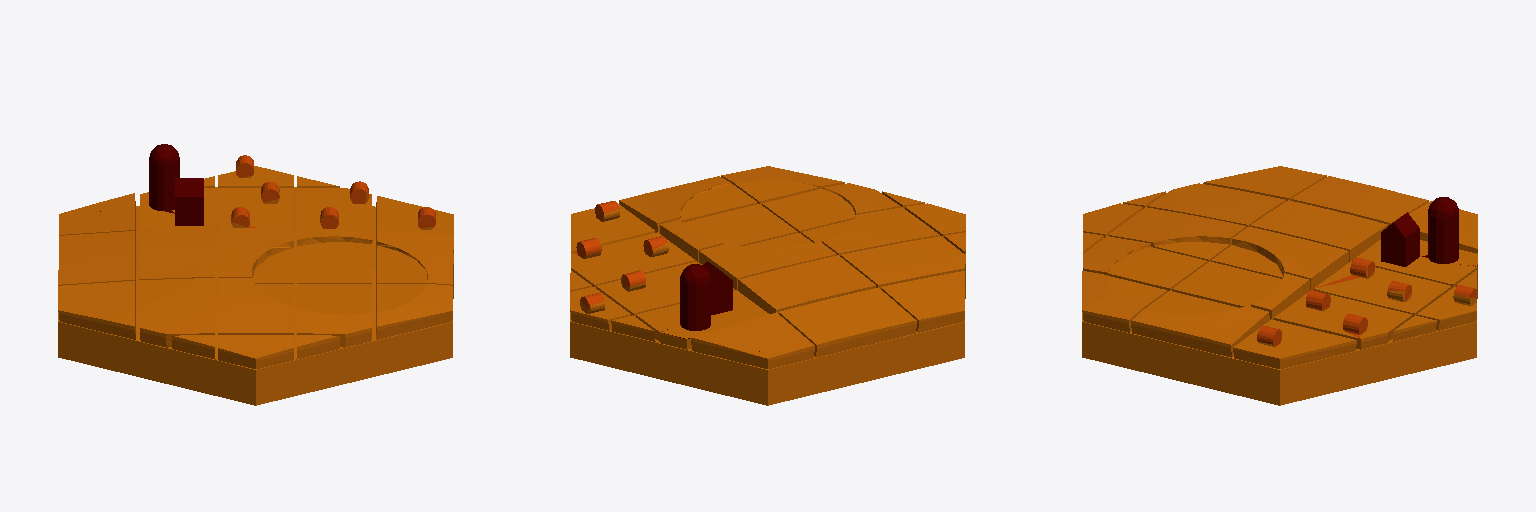
File: wheat.obj
3 renders of one model, left to right at view 1: azimuth 30°, elevation 25°; view 2: azimuth 150°, elevation 25°; view 3: azimuth 270°, elevation 25°, orthographic.
Visible parts, largest first — view 1: wheat_v1; view 2: wheat_v1; view 3: wheat_v1.
Boxes of the visible parts, <box> form: wheat_v1: <box>58,144,453,405</box>; wheat_v1: <box>570,166,965,405</box>; wheat_v1: <box>1082,166,1477,405</box>.
Bounding box in the file's own units: 73.75 × 19.08 × 63.93.